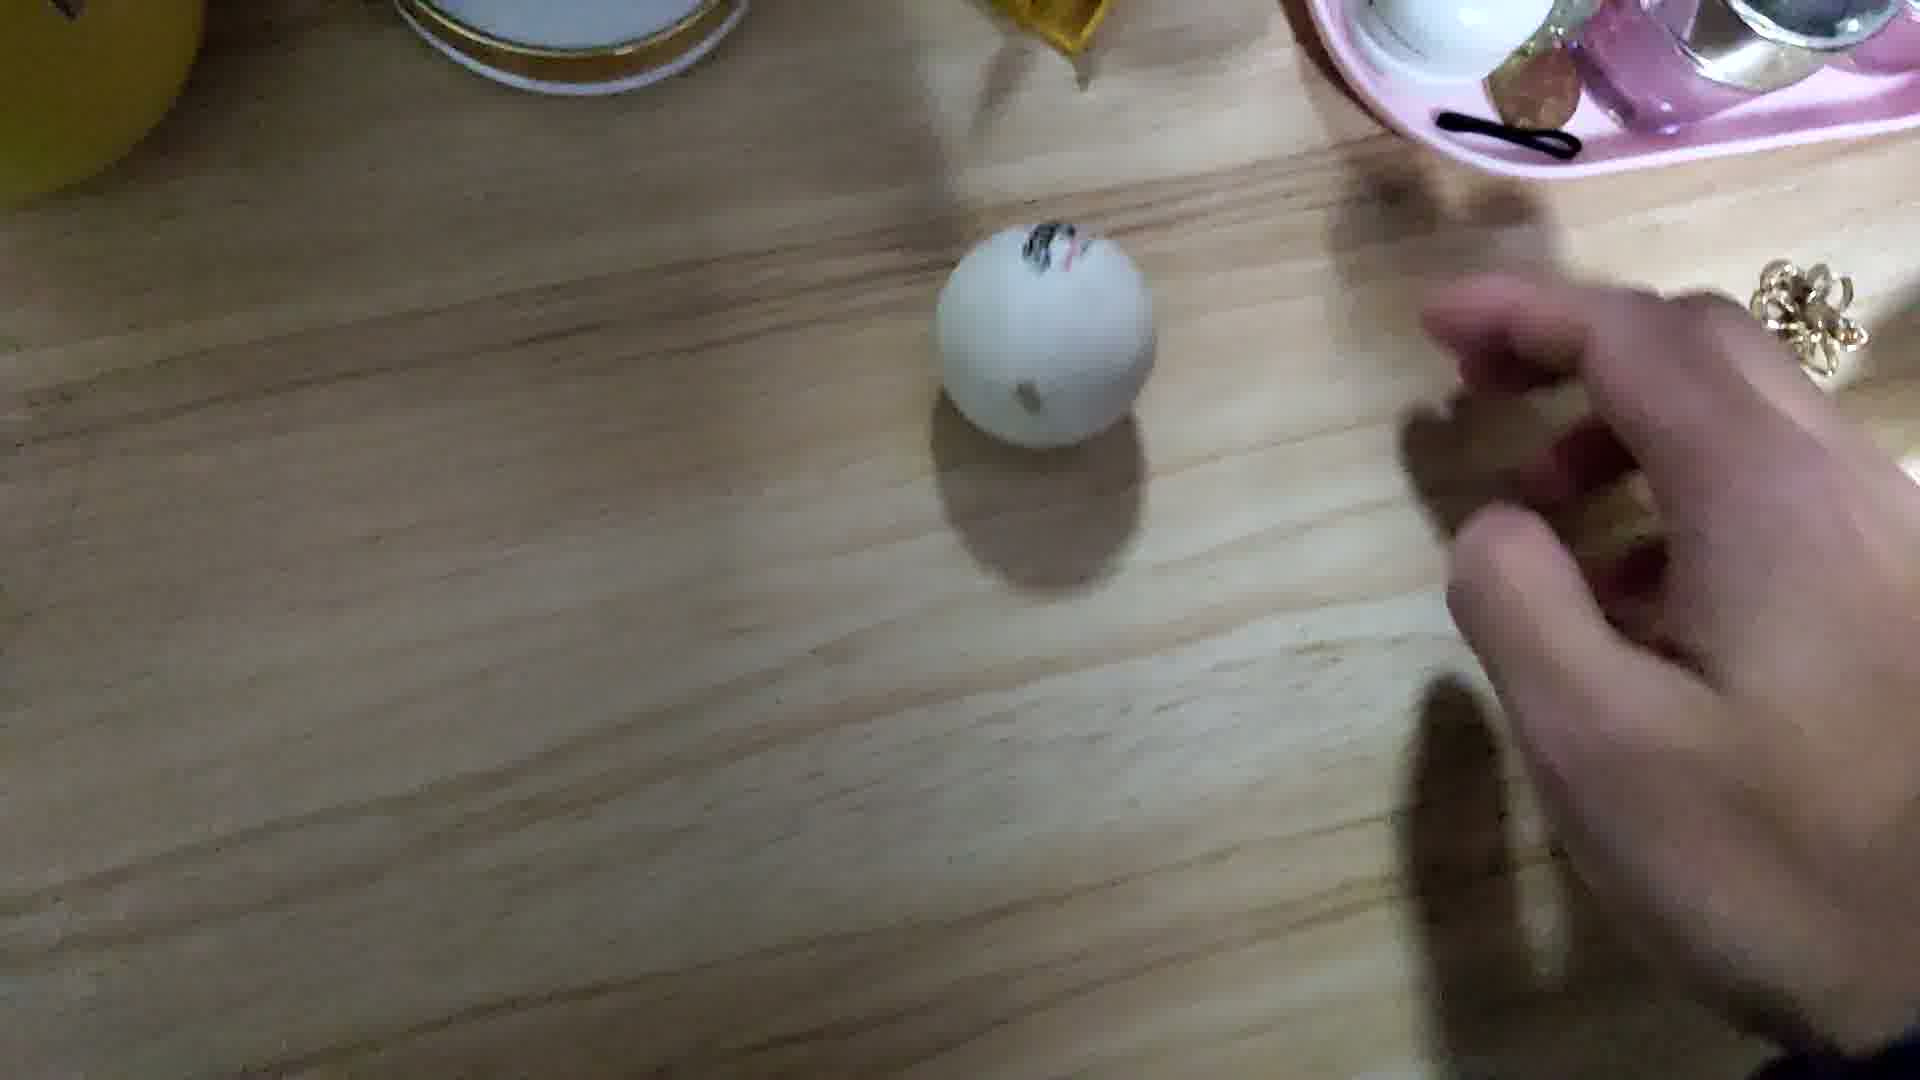Ball: (935, 222, 1159, 454)
